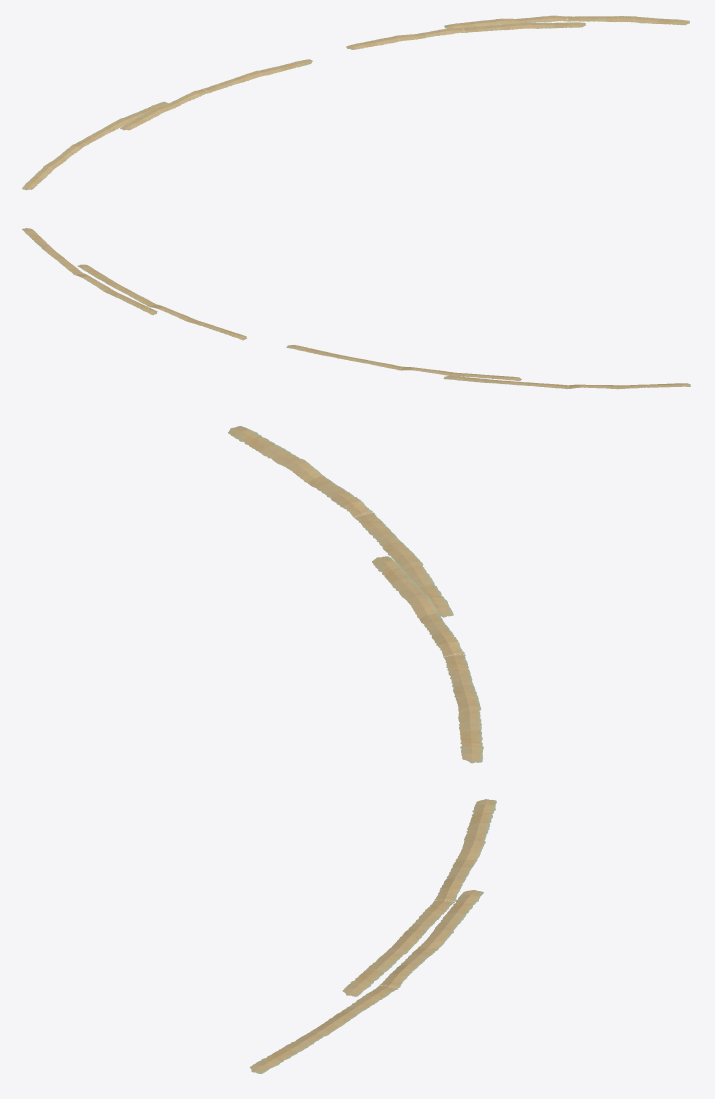
File: sucai_18.FBX
The picture shows the model from 3 angles, top to bottom: view 1: azimuth 30°, elevation 25°; view 2: azimuth 150°, elevation 25°; view 3: azimuth 270°, elevation 25°; orthographic projection. The views are drawn at different scales.
Visible parts, largest first — view 1: sucai_18; view 2: sucai_18; view 3: sucai_18.
Boxes of the visible parts, x1,y1,x2,y2 form: sucai_18: (22, 15, 689, 190); sucai_18: (22, 228, 690, 389); sucai_18: (228, 426, 496, 1073).
Size of the model in its own units: 2862 by 11.63 by 543.
